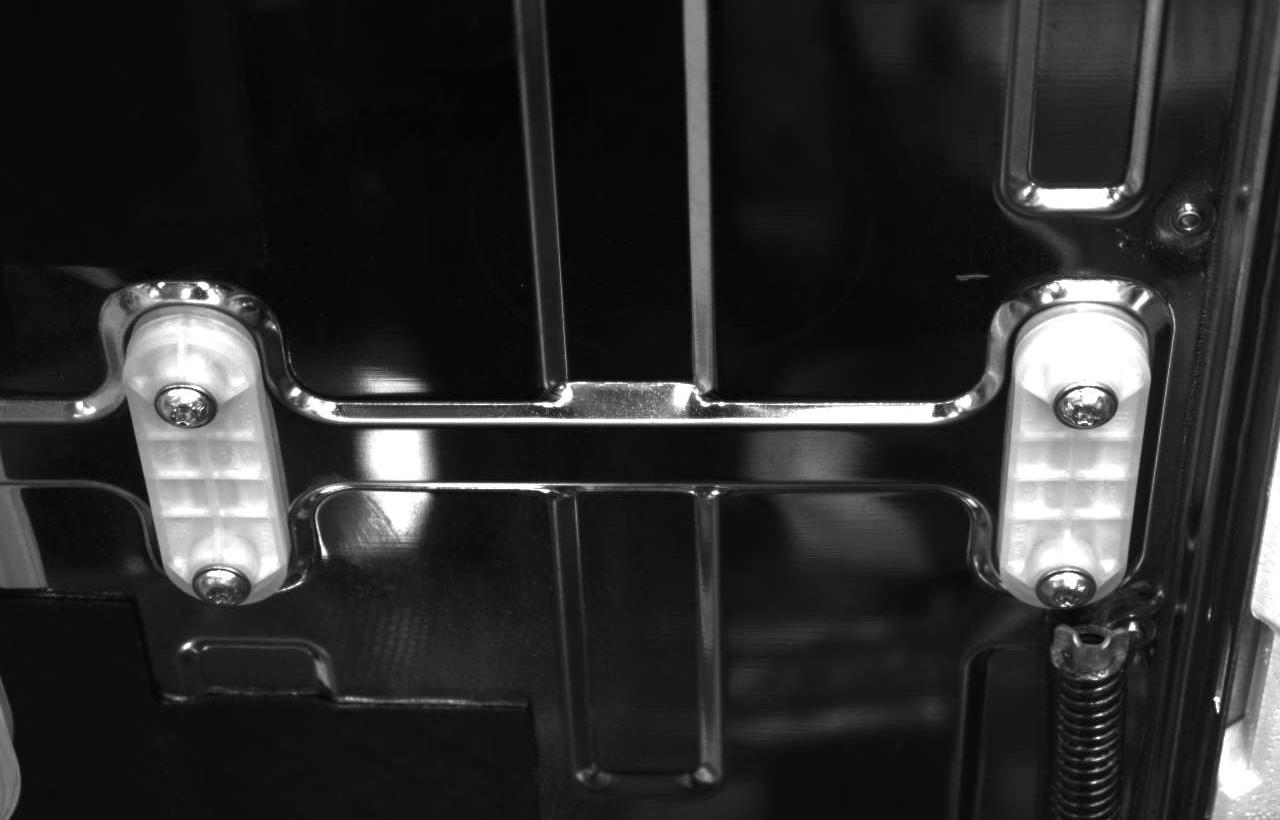vida-ok: (149, 372, 220, 439), (1053, 372, 1120, 439), (189, 557, 254, 615), (1036, 557, 1101, 615)
